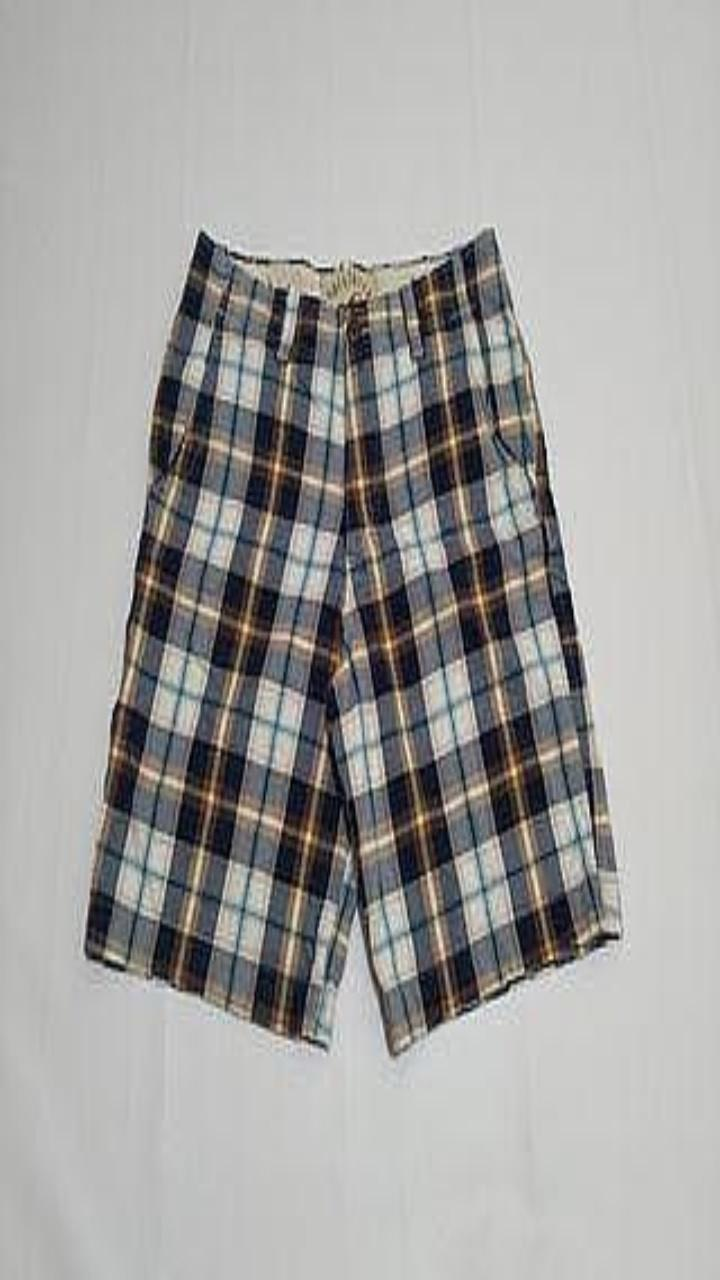Shorts: (85, 228, 621, 1053)
